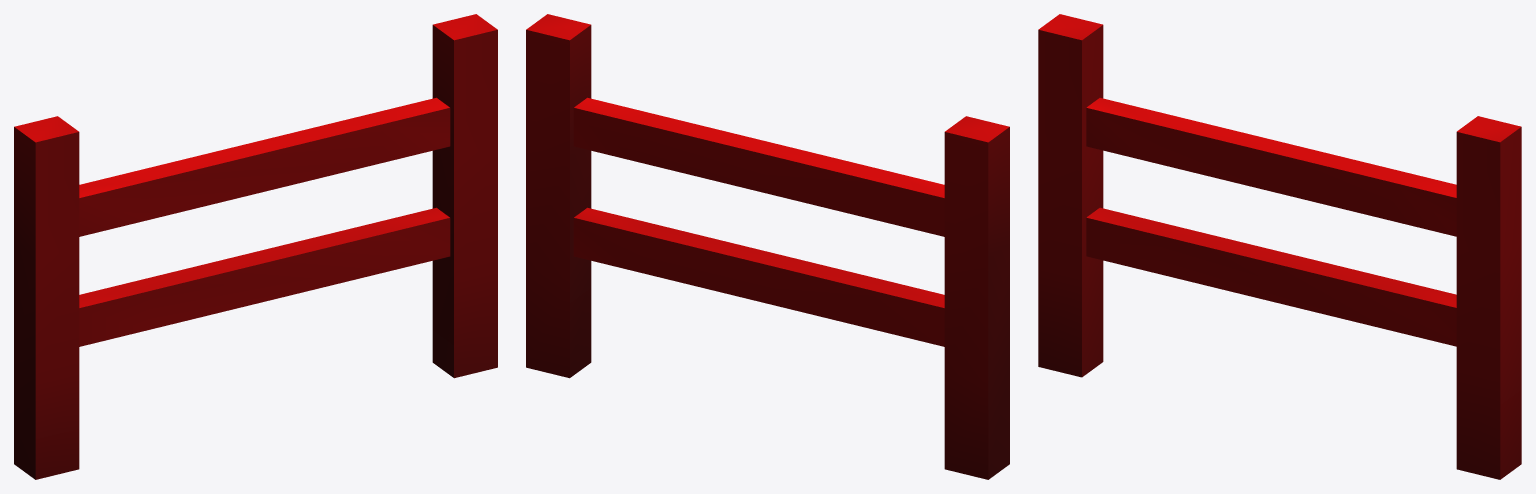
Rendered from BasicFence.glb.
3 views of the same model, side by side, from view 1: azimuth 30°, elevation 25°; view 2: azimuth 150°, elevation 25°; view 3: azimuth 330°, elevation 25° (orthographic).
Visible parts, largest first — view 1: BasicFence; view 2: BasicFence; view 3: BasicFence.
Boxes of the visible parts, x1,y1,x2,y2 form: BasicFence: [14, 14, 497, 479]; BasicFence: [526, 14, 1009, 479]; BasicFence: [1038, 14, 1521, 479].
Bounding box in the file's own units: 9.69 × 6.77 × 0.7795.
